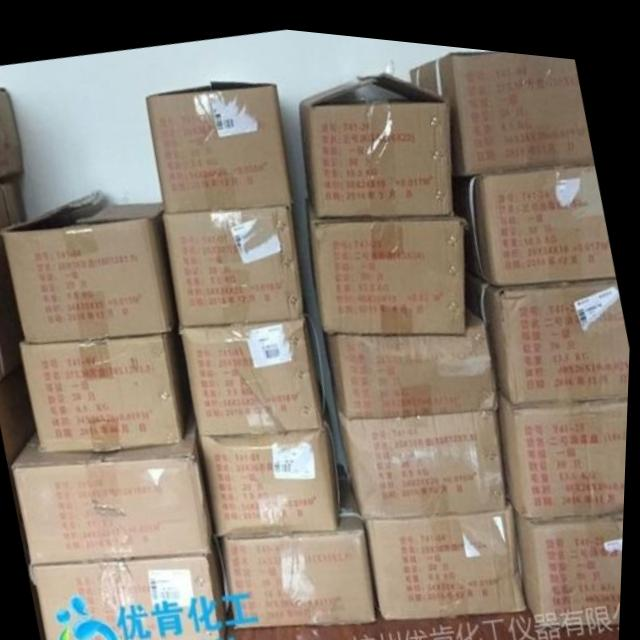box: (14, 417, 216, 563), (3, 188, 181, 342), (224, 458, 381, 623), (409, 40, 595, 167), (299, 63, 453, 212), (307, 188, 468, 326), (20, 326, 192, 449), (34, 535, 233, 640), (475, 265, 632, 394), (145, 77, 294, 209), (326, 300, 500, 412), (463, 153, 618, 275), (202, 398, 342, 533), (340, 401, 511, 511), (369, 496, 531, 610), (165, 199, 308, 322), (181, 312, 327, 430), (500, 381, 630, 507), (519, 503, 627, 615), (0, 178, 30, 380), (0, 88, 24, 177)
